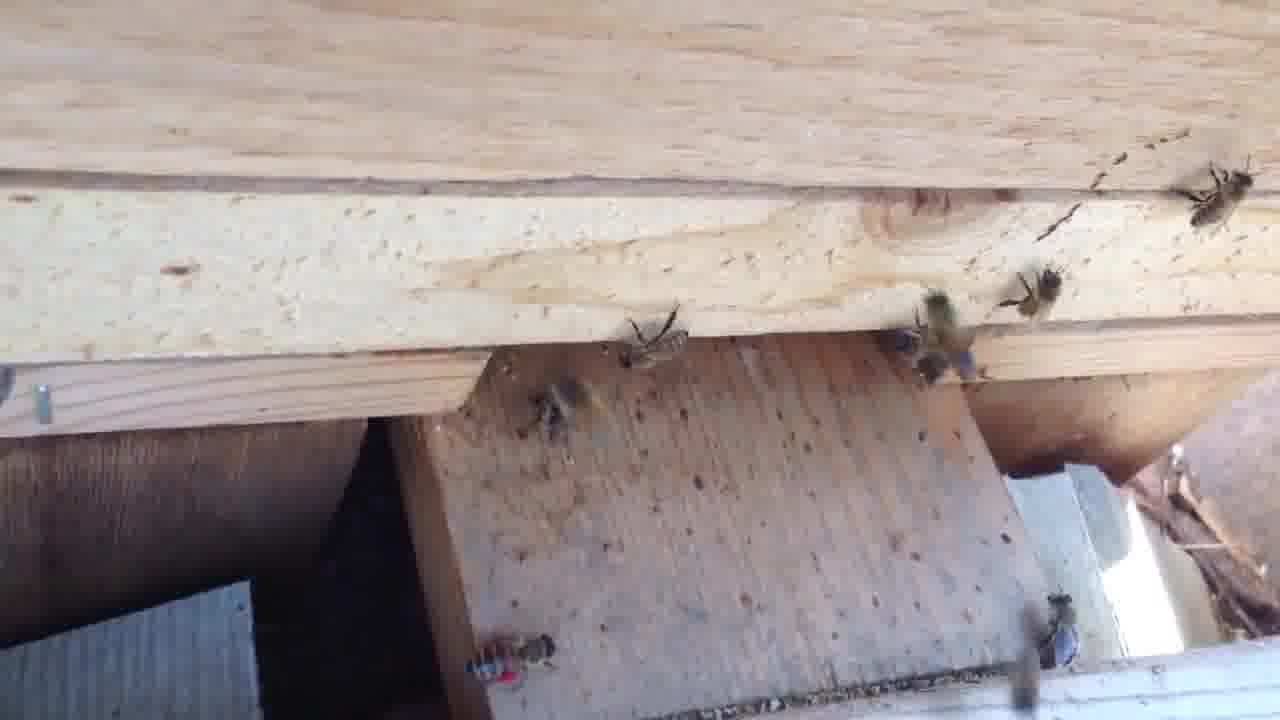pollen: (465, 629, 563, 688)
